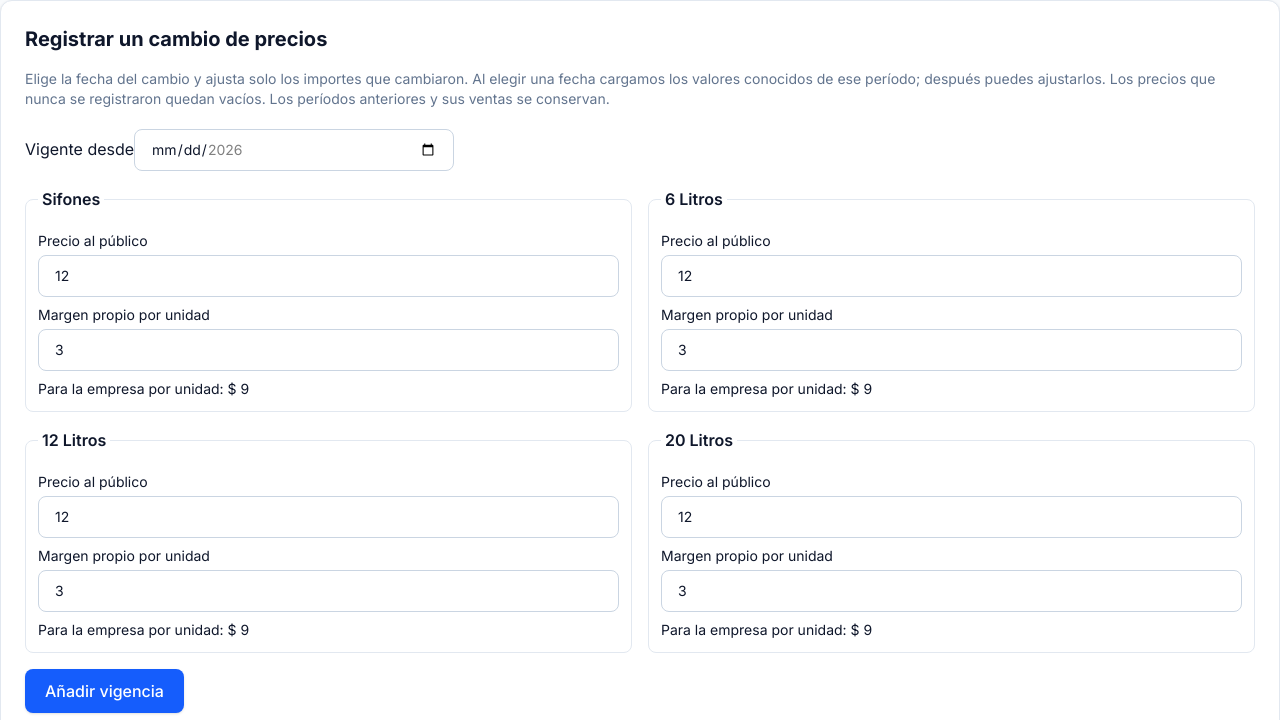
Test: al completar un precio antiguo precarga el margen anterior y conserva vacío lo desconocido
The width and height of the screenshot is (1280, 720).
Step 1. Type "2026-01-01" into the date field labelled "Vigente desde" → (294, 150), box [134,129,454,171]
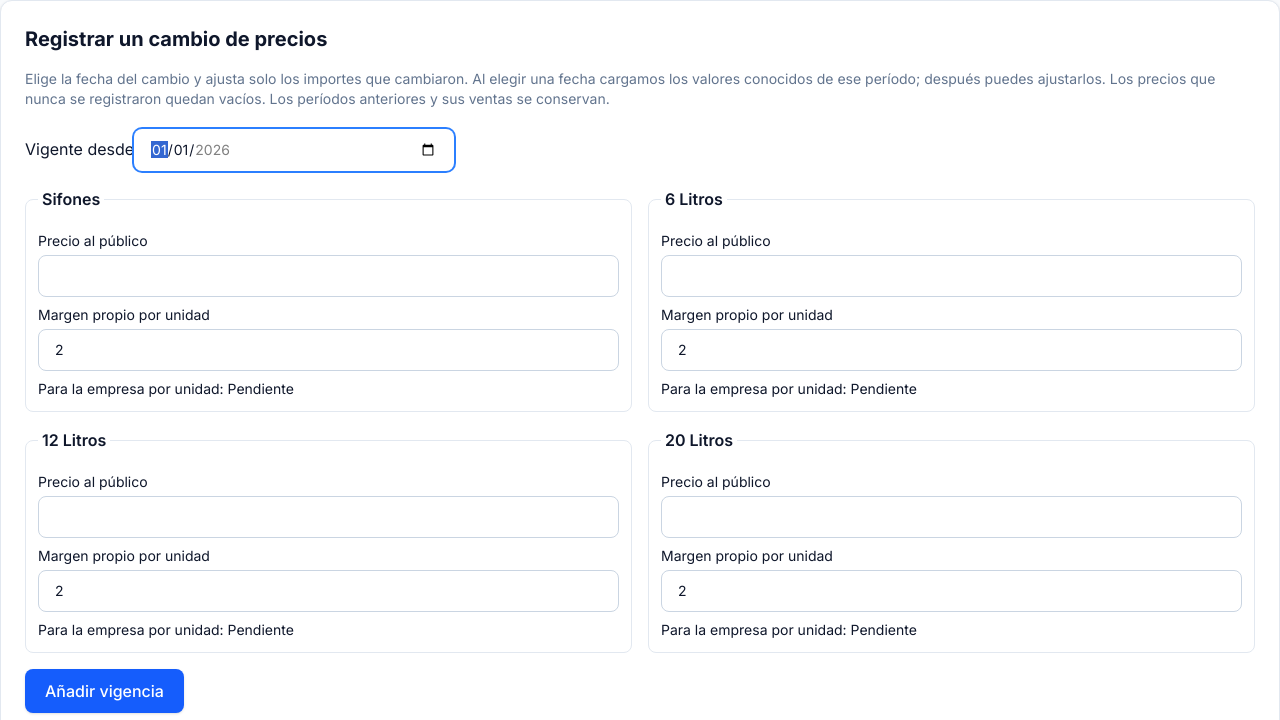
expect the number field named "Sifones: margen propio" holds "2": met, box [38,329,619,371]
expect the number field named "Sifones: precio al público" is not empty: met, box [38,255,619,297]
